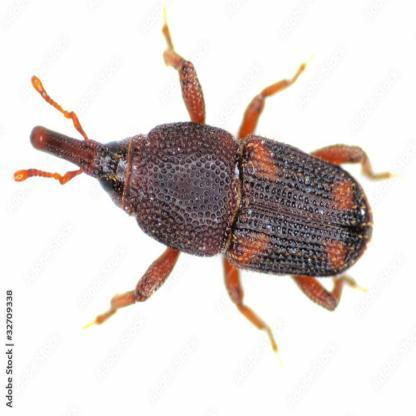rice-bug: (29, 120, 382, 310)
